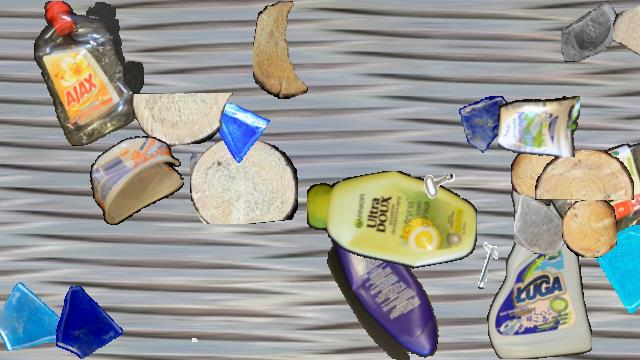glass: (47, 281, 125, 359), (0, 279, 72, 359), (200, 94, 270, 164), (595, 225, 640, 313), (561, 1, 621, 61), (514, 195, 572, 253), (459, 96, 515, 152)
metal: (403, 143, 463, 203), (463, 242, 519, 298), (167, 311, 205, 349)
plastic: (487, 169, 591, 359), (324, 217, 444, 359), (307, 171, 477, 271), (33, 1, 143, 145), (549, 120, 640, 238), (90, 136, 184, 226), (498, 92, 580, 156)
wood: (190, 136, 298, 224), (253, 1, 313, 99), (133, 93, 233, 147), (535, 150, 633, 200), (562, 200, 616, 258), (511, 146, 561, 206), (613, 1, 640, 97)
